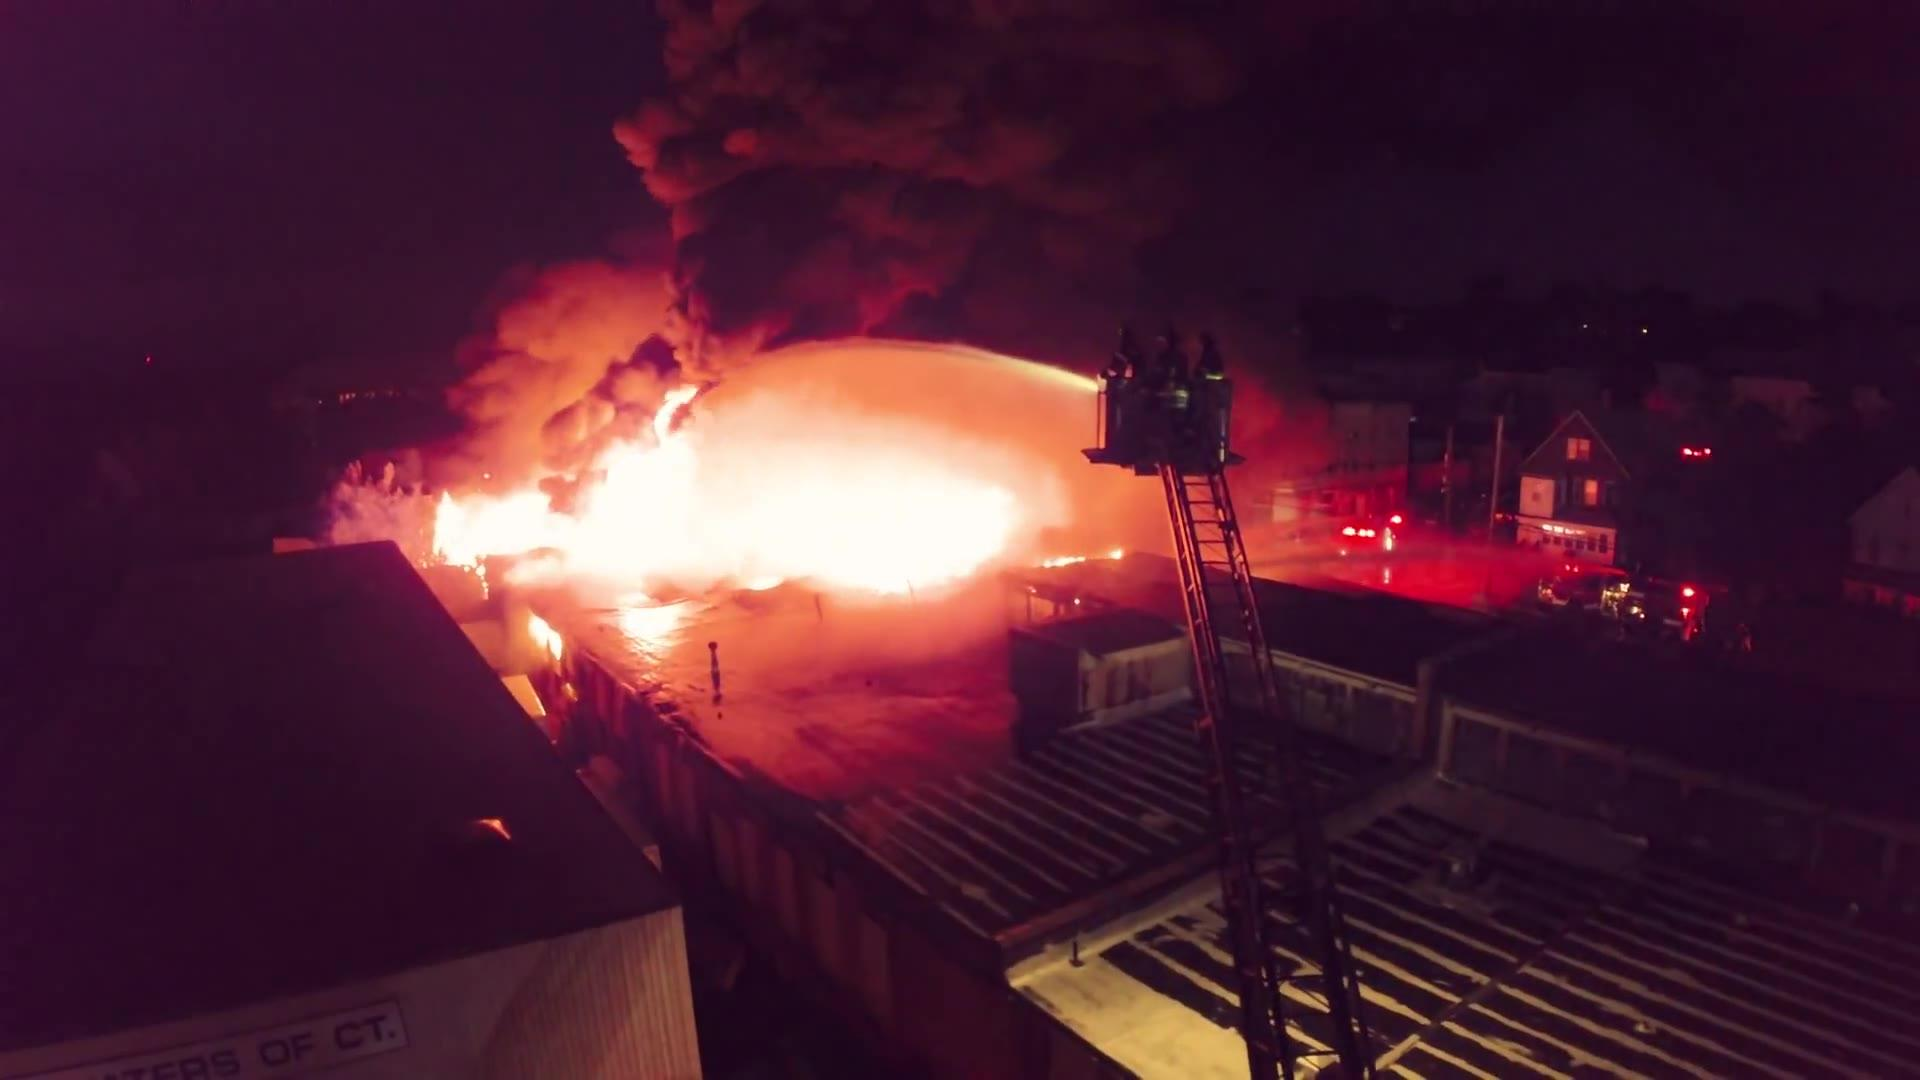fire: (454, 357, 1062, 666)
